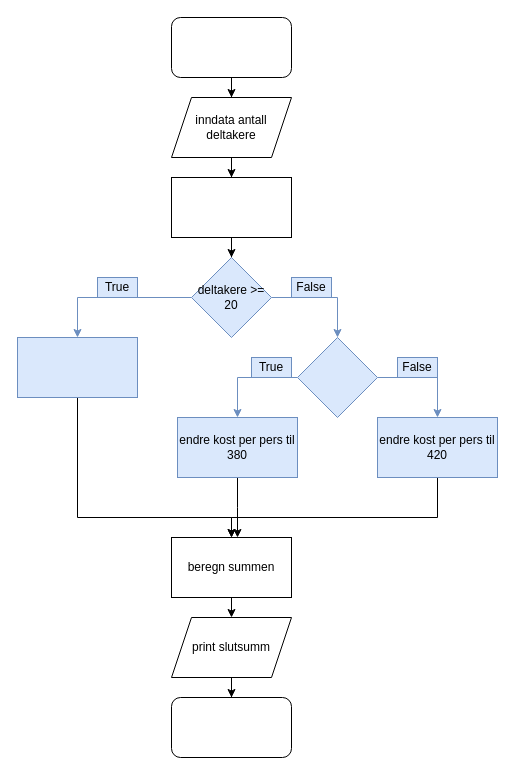
This 515x775 diagram has some shape labels left out. Each missing label, with the centre of its shape:
"deklarerer og tilordne konstante" goes at pixel 231 207.
"deltakere >= 10" goes at pixel 337 377.
"endre kost per pers til 350" goes at pixel 77 367.
"fin" goes at pixel 231 727.
"start" goes at pixel 231 47.
